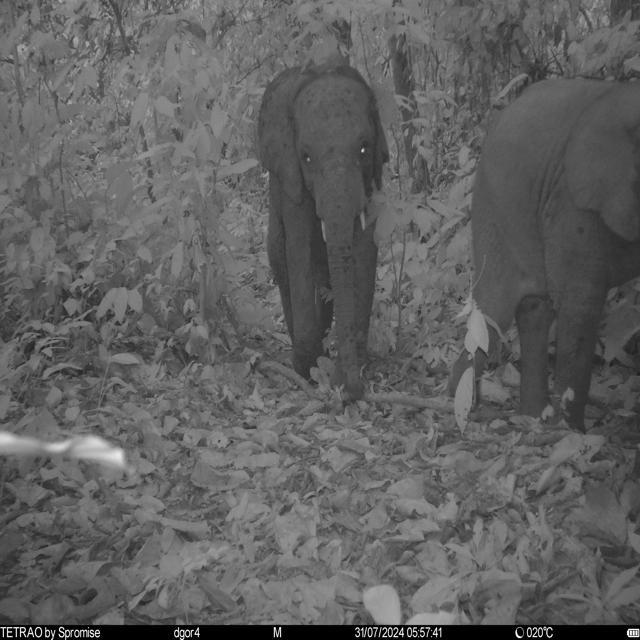calf: (447, 72, 640, 436)
ear: (564, 80, 640, 241), (255, 62, 312, 206), (335, 65, 391, 192)
elephant: (255, 62, 390, 406)
tusk: (318, 217, 329, 246), (357, 208, 367, 234)
